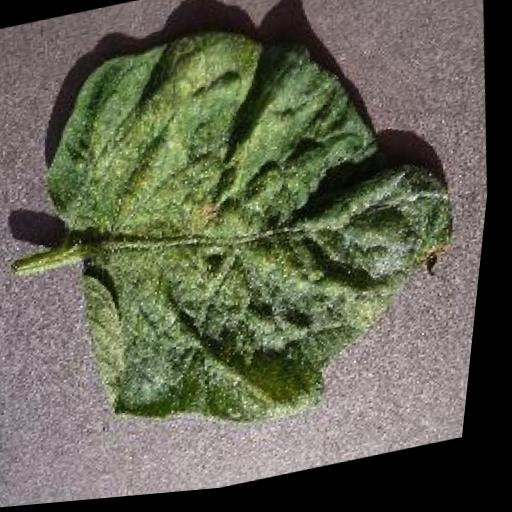Spider Mites: (12, 0, 499, 469)
